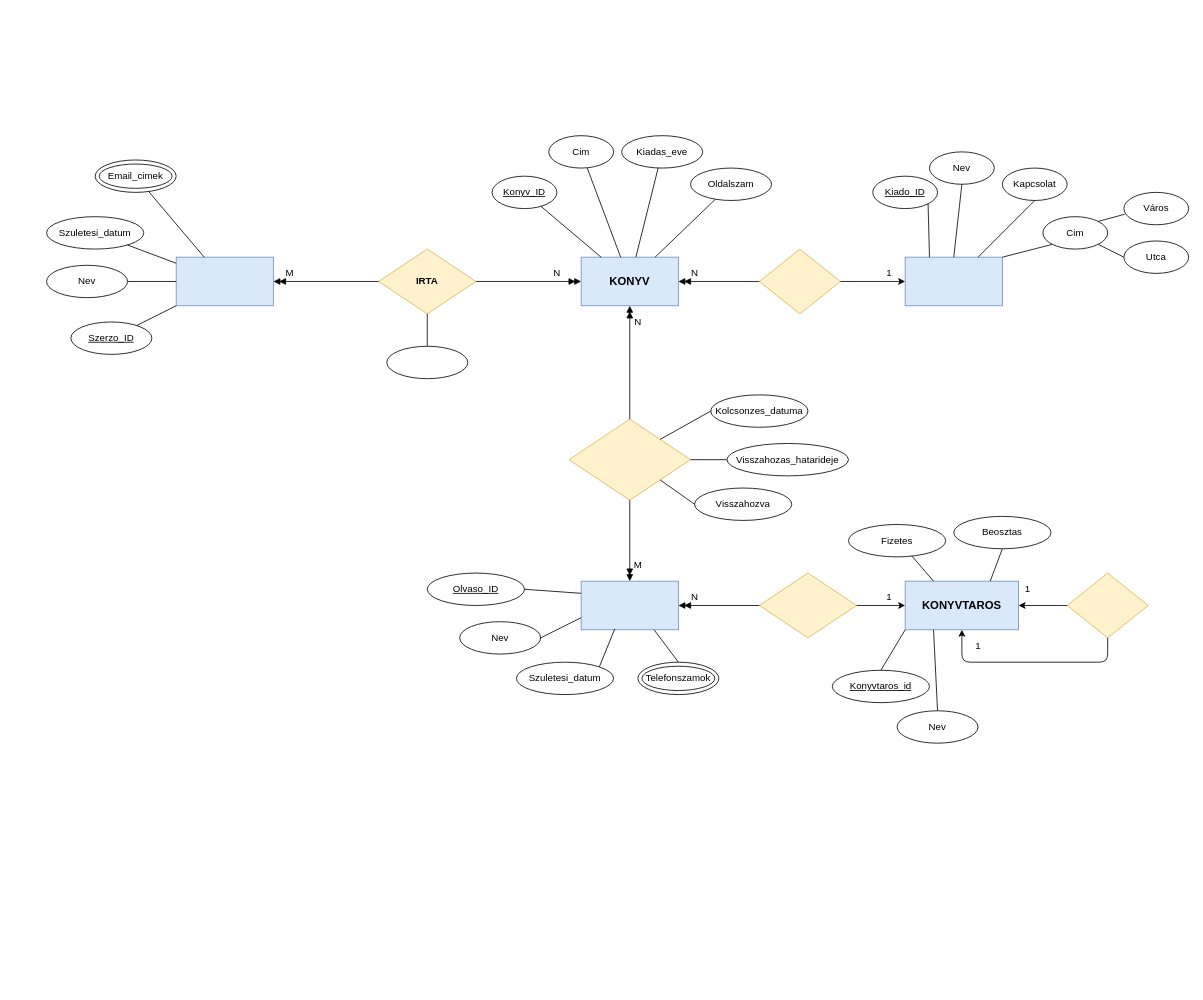
Image size: 1203x1000. Some labels were removed from this diagram. The centre of each missing label's shape, as x and y in pixels:
"KIADO" belongs at (x=953, y=281).
"KIADTA" belongs at (x=799, y=281).
"KOLCSONZES" belongs at (x=629, y=459).
"MENTOR" belongs at (x=1107, y=605).
"OLVASO" belongs at (x=629, y=605).
"REGISZTRALT" belongs at (x=808, y=605).
"Szerep" belongs at (x=427, y=362).
"SZERZO" belongs at (x=224, y=281).
